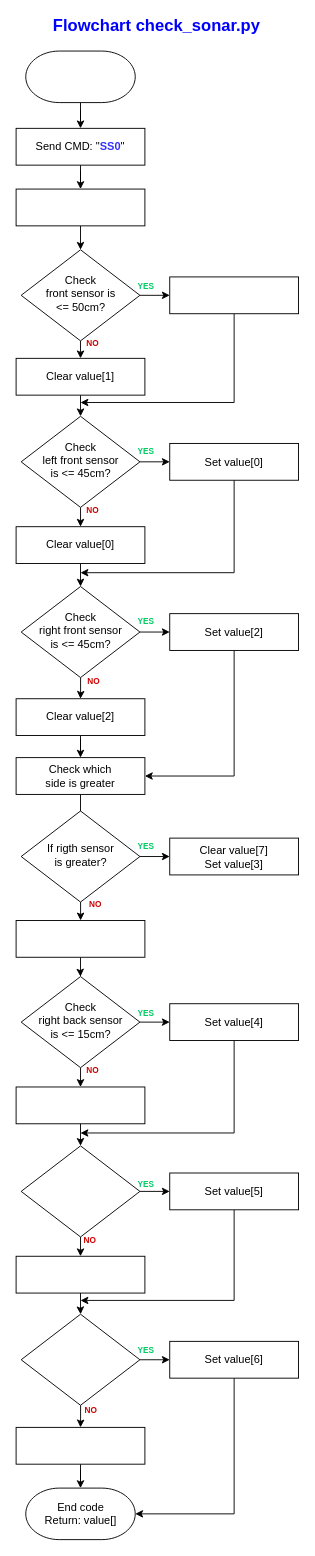
Image size: 315x1556. Some labels were removed from this diagram. The shapes that lost their labels are listed below. From the top down, each one's centre as x and y in pixels, then its label:
point 80,76: Start code Function: sonar_value()
point 80,207: Store sensor data in the: data_sonar[ ]
point 234,295: Set value[1]
point 80,938: Set value[7] Clear value[3]
point 80,1105: Clear value[4]
point 80,1191: Check back sensor is <= 15cm?
point 80,1274: Clear value[5]
point 80,1359: Check left back sensor is <= 15cm?
point 80,1445: Clear value[6]
